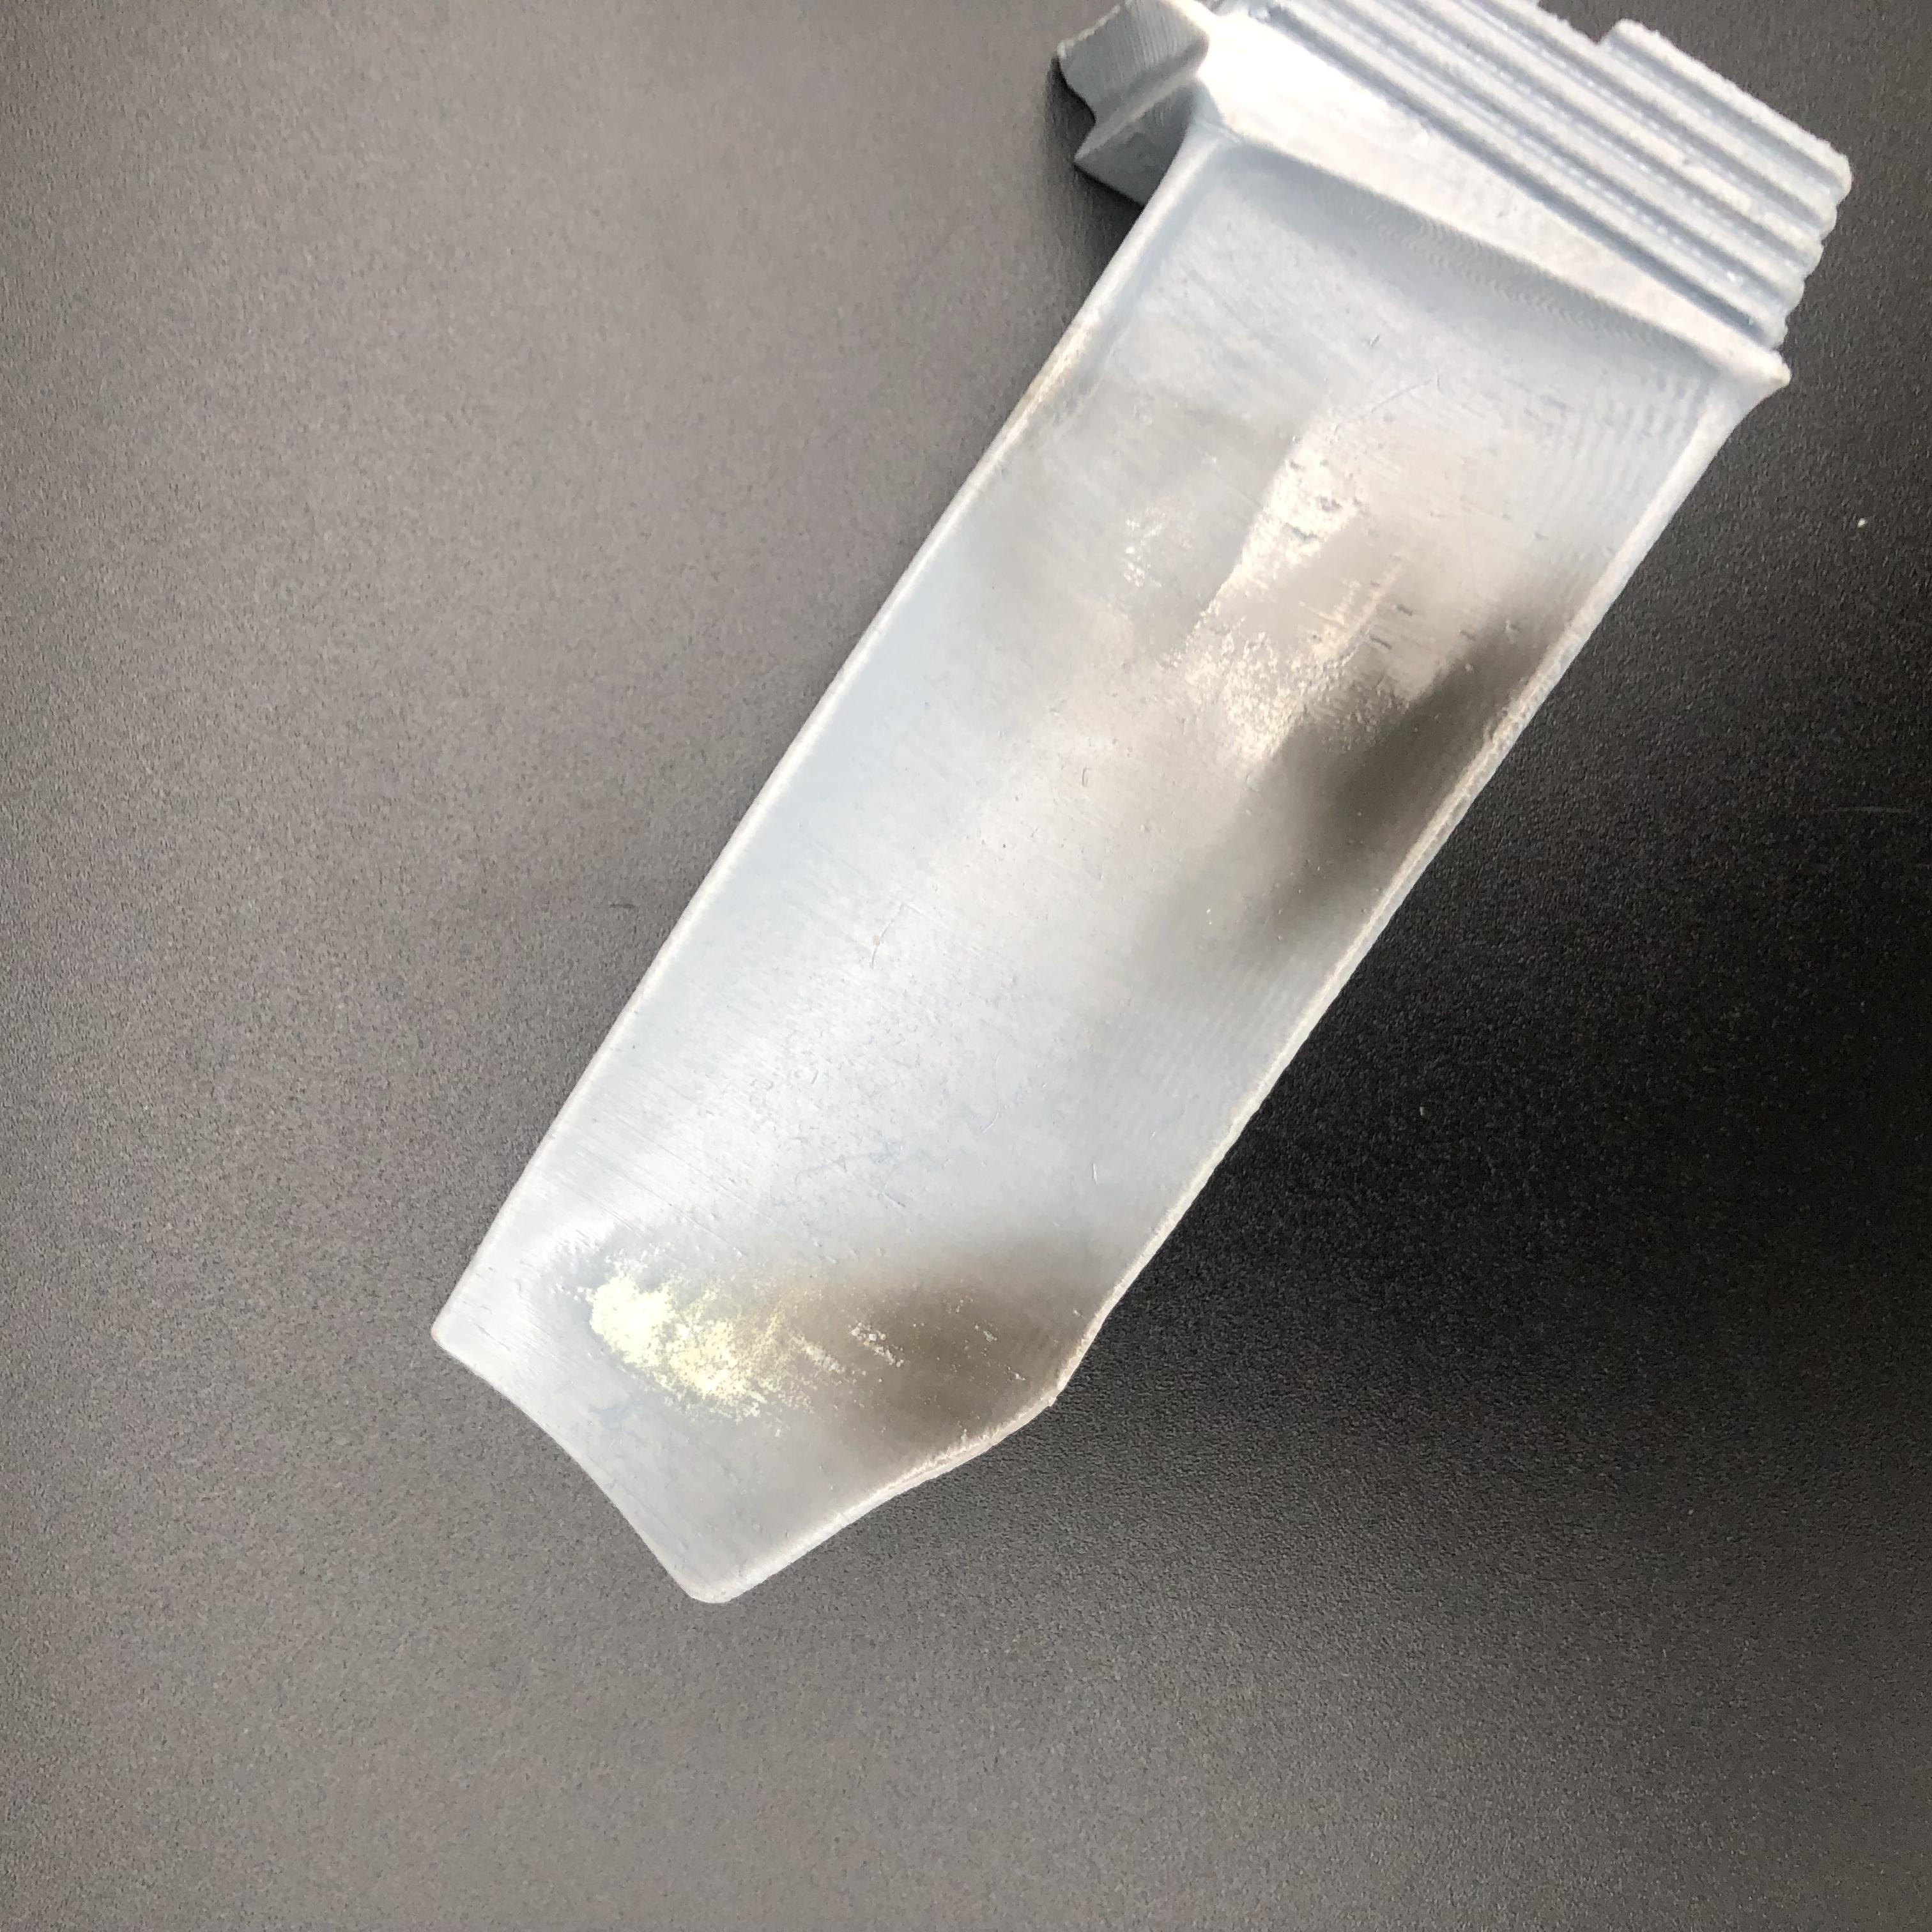ablation: (1090, 462, 1477, 817), (706, 1295, 1067, 1421)
